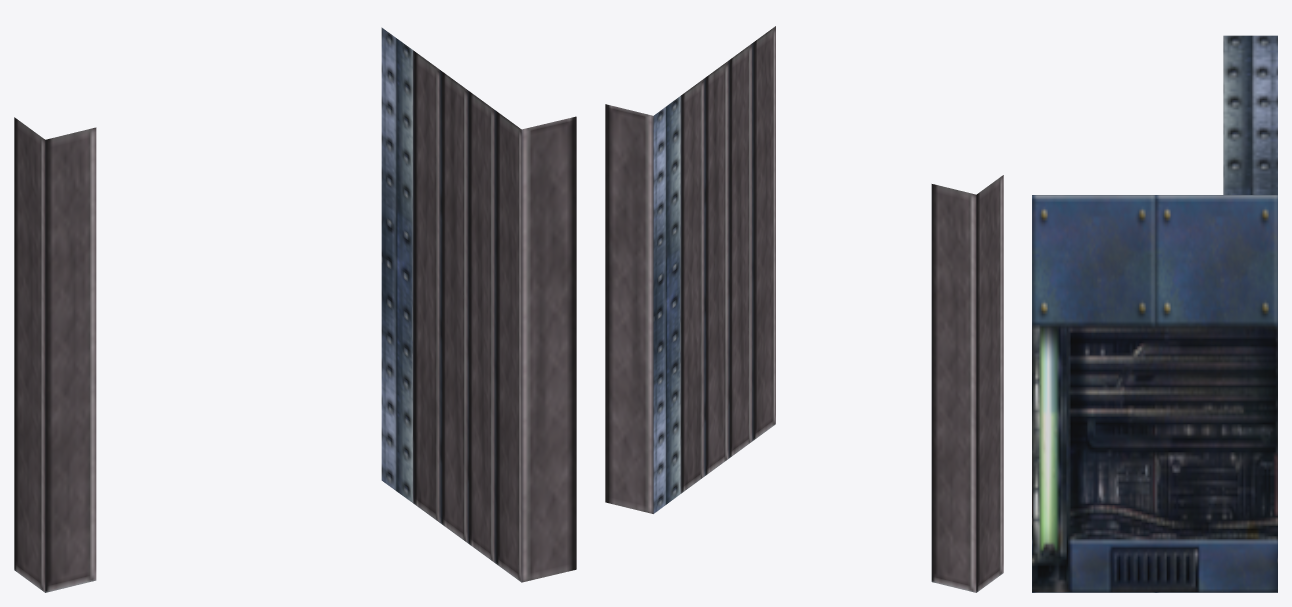
The model's file is doorframe02.glb.
The picture shows the model from 3 angles, left to right: view 1: azimuth 30°, elevation 25°; view 2: azimuth 150°, elevation 25°; view 3: azimuth 270°, elevation 25°; orthographic projection. The views are drawn at different scales.
Visible parts, largest first — view 1: doorframe02; view 2: doorframe02; view 3: doorframe02.
Boxes of the visible parts, bbox=[...] form: doorframe02: bbox=[14, 27, 576, 592]; doorframe02: bbox=[605, 26, 1003, 592]; doorframe02: bbox=[1032, 35, 1277, 592].
Bounding box in the file's own units: 686 × 703 × 394.
Materials: 2 (2 with a texture image).
